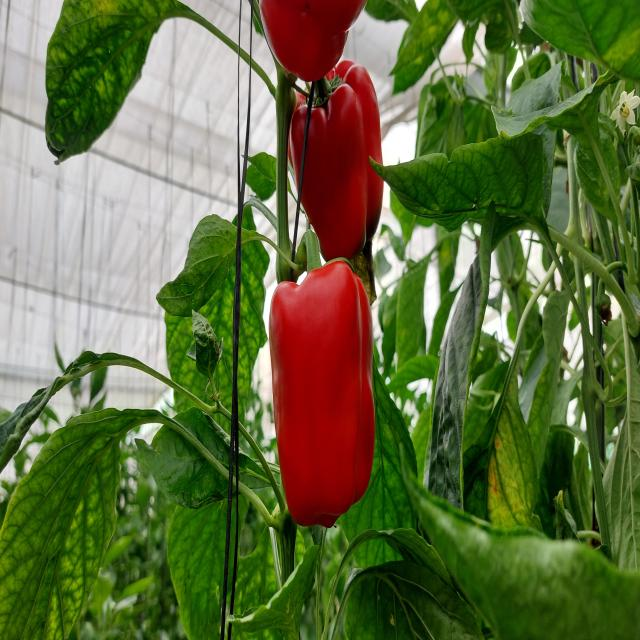Red-Ready-to-Harvest: (268, 258, 385, 536), (279, 84, 396, 245), (260, 3, 367, 76)
